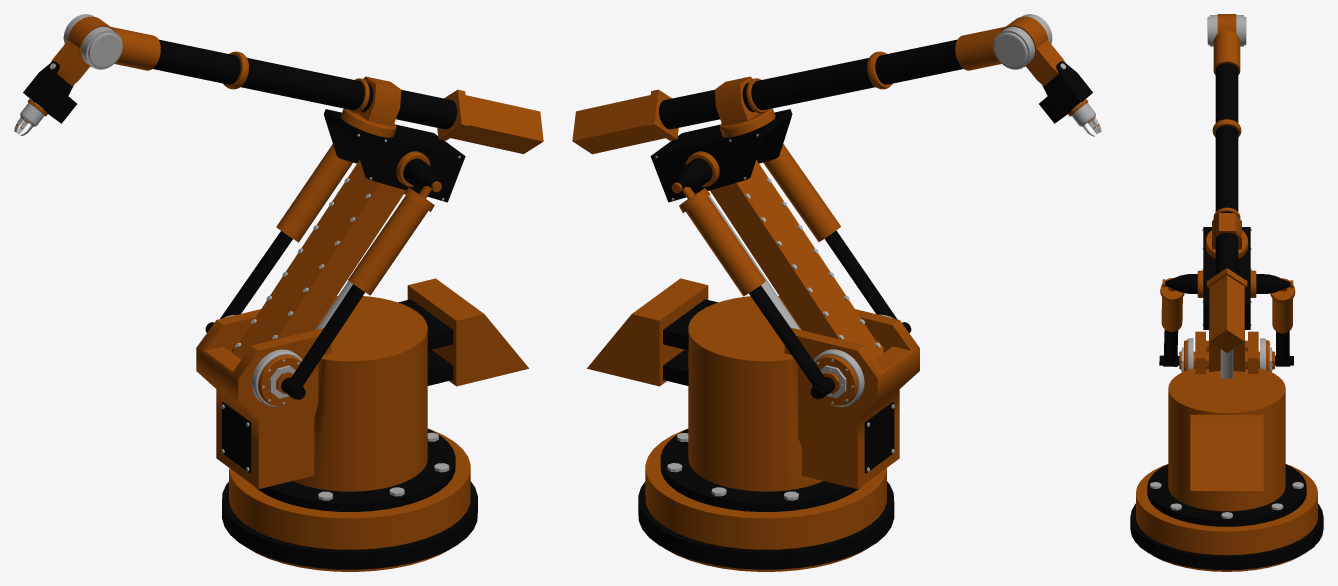
File: industrial-arm.fbx
The picture shows the model from 3 angles, left to right: view 1: azimuth 30°, elevation 25°; view 2: azimuth 150°, elevation 25°; view 3: azimuth 270°, elevation 25°; orthographic projection. The views are drawn at different scales.
Visible parts, largest first — view 1: pasted__pCylinder1 (×2), pCube2, pCube5, pasted__polySurface26, pasted__pasted__pCylinder3, pasted__pasted__pCylinder1, pCube3, pCube6, pCylinder1, pasted__pCube7 (×3), pCube8, pCylinder4 (+8 smaller); view 2: pasted__pCylinder1 (×2), pCube2, pCube5, pasted__polySurface26, pasted__pasted__pCylinder3 (×2), pasted__pasted__pCylinder1 (×2), pCube3, pCube6, pCylinder1, pasted__pCube7 (×3), pCube8, pCylinder4 (+7 smaller); view 3: pasted__pCylinder1 (×2), pCube3, pasted__pasted__pCylinder3 (×2), pasted__polySurface26, pCylinder1, pasted__pasted__pCylinder1, pCube8, pCube6, pCube2, pasted__pasted__pasted__pCylinder3, pasted__pCube7, pCube5 (+4 smaller).
Boxes of the visible parts, x1,y1,x2,y2 form: pasted__pCylinder1 (×2): (229,296,470,571); pCube2: (196,309,331,489); pCube5: (232,159,405,359); pasted__polySurface26: (205,144,436,399); pasted__pasted__pCylinder3: (153,39,457,129); pasted__pasted__pCylinder1: (222,481,477,569); pCube3: (407,278,528,386); pCube6: (324,109,465,202); pCylinder1: (255,429,455,511); pasted__pCube7 (×3): (23,40,401,126); pCube8: (451,95,543,154); pCylinder4: (63,14,122,69); pasted__pCylinder1 (×2): (645,296,886,571); pCube2: (784,309,919,489); pCube5: (710,160,883,359); pasted__polySurface26: (677,144,911,399); pasted__pasted__pCylinder3 (×2): (659,39,963,329); pasted__pasted__pCylinder1 (×2): (638,355,894,569); pCube3: (587,278,708,386); pCube6: (650,109,792,202); pCylinder1: (660,429,861,511); pasted__pCube7 (×3): (715,40,1092,126); pCube8: (572,95,665,154); pCylinder4: (993,14,1052,69); pasted__pCylinder1 (×2): (1136,368,1317,571); pCube3: (1190,414,1263,490); pasted__pasted__pCylinder3 (×2): (1215,63,1238,378); pasted__polySurface26: (1159,274,1295,366); pCylinder1: (1147,464,1306,526); pasted__pasted__pCylinder1: (1130,503,1323,570); pCube8: (1209,275,1244,352); pCube6: (1203,227,1250,329); pCube2: (1195,331,1258,373); pasted__pasted__pasted__pCylinder3: (1213,29,1240,74); pasted__pCube7: (1212,213,1241,249); pCube5: (1209,330,1244,371).
Bounding box in the file's own units: 7.19 × 7.35 × 3.04.
